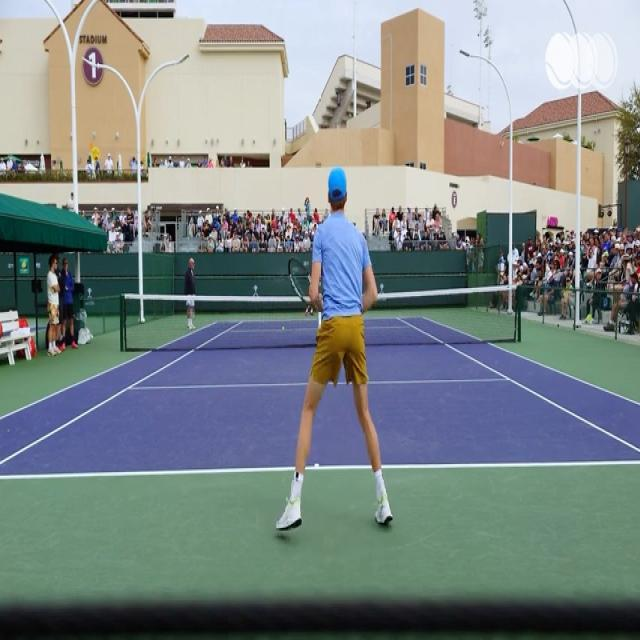ready-position: (282, 172, 396, 527)
